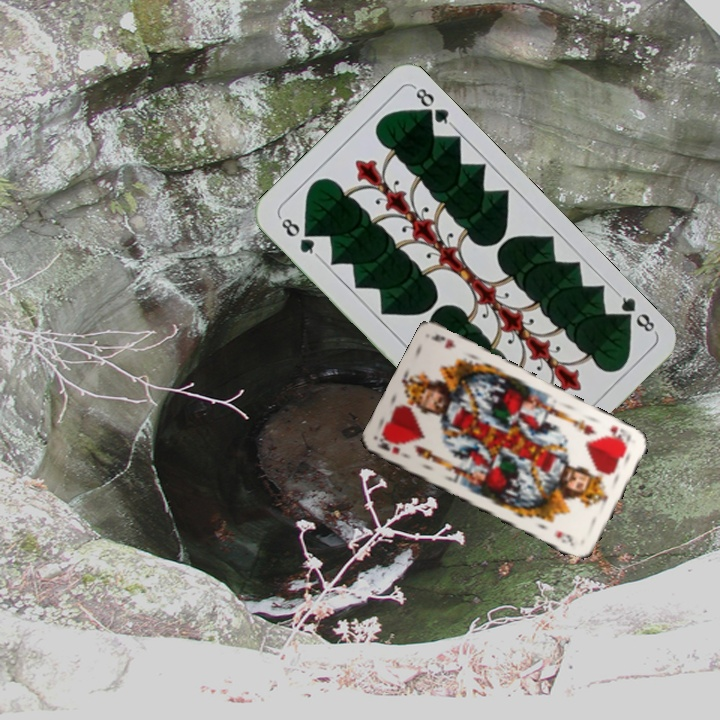G8: (613, 288, 659, 335), (275, 213, 321, 259)
HK: (600, 422, 634, 448), (373, 433, 402, 457)
